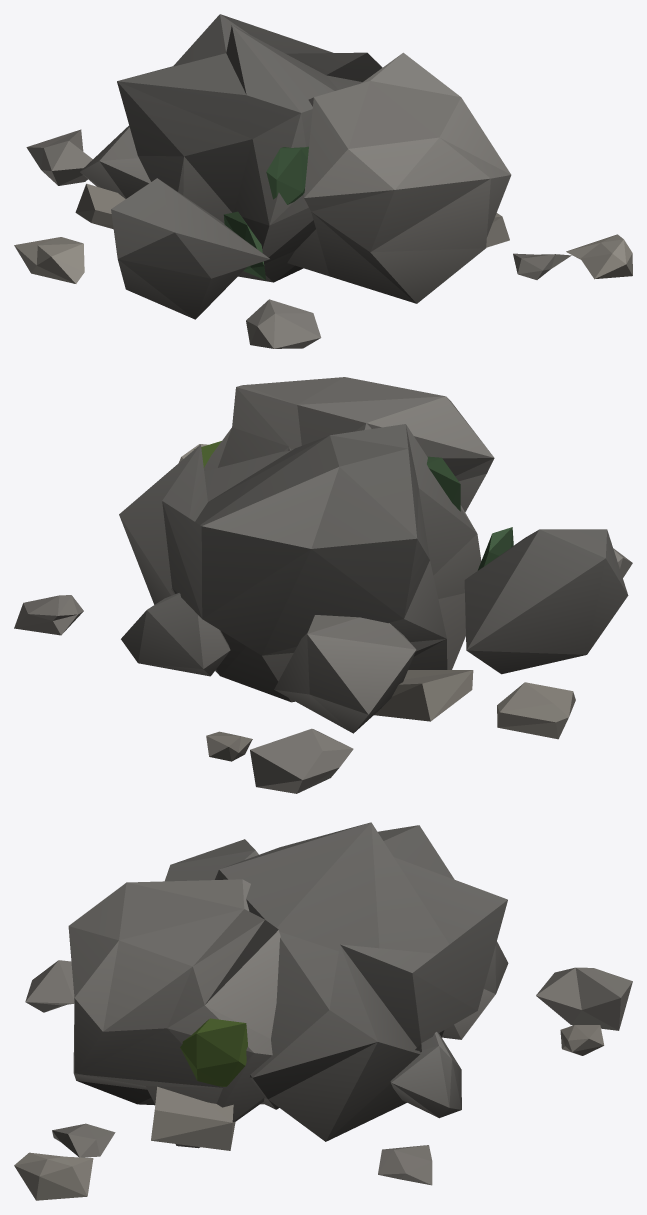
The model's file is rock-cluster.glb.
3 views of the same model, one above another, from view 1: azimuth 30°, elevation 25°; view 2: azimuth 150°, elevation 25°; view 3: azimuth 270°, elevation 25° (orthographic). The views are drawn at different scales.
Parts seen in each view (by area): view 1: rock_cluster; view 2: rock_cluster; view 3: rock_cluster.
Boxes of the visible parts, x1,y1,x2,y2 form: rock_cluster: (14, 14, 632, 348); rock_cluster: (14, 377, 632, 793); rock_cluster: (14, 822, 632, 1200).
Bounding box in the file's own units: 1.56 × 0.662 × 1.57.
